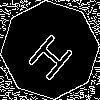H: (25, 25, 83, 83)
